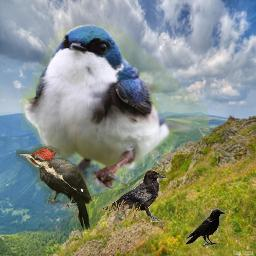Crow: (97, 170, 167, 222), (184, 208, 226, 246)
Swallow: (21, 23, 210, 189)
Woodpecker: (16, 144, 98, 232)
